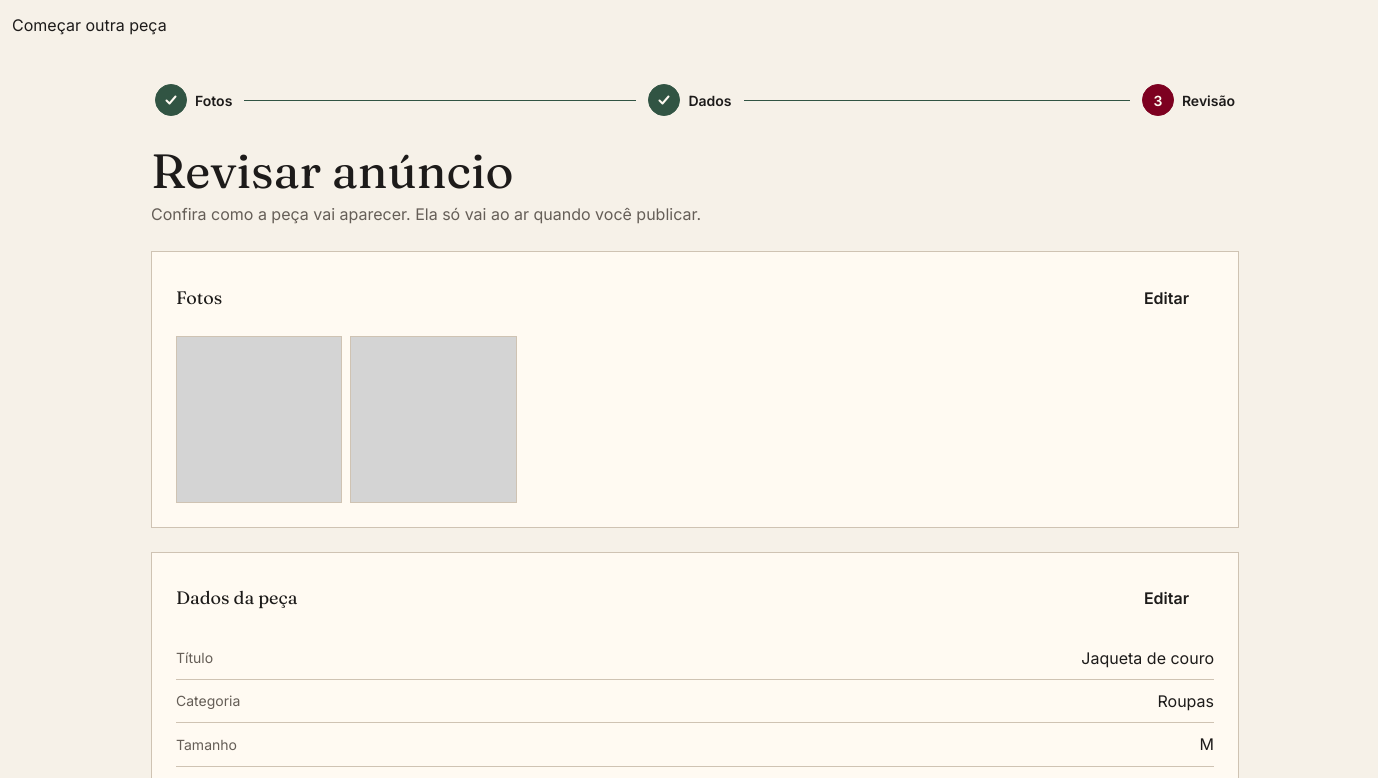
it: Review › "Editar fotos" volta ao formulário na área de fotos
Click the button with aria-label "Editar fotos": (1166, 298) [1119, 276, 1214, 320]
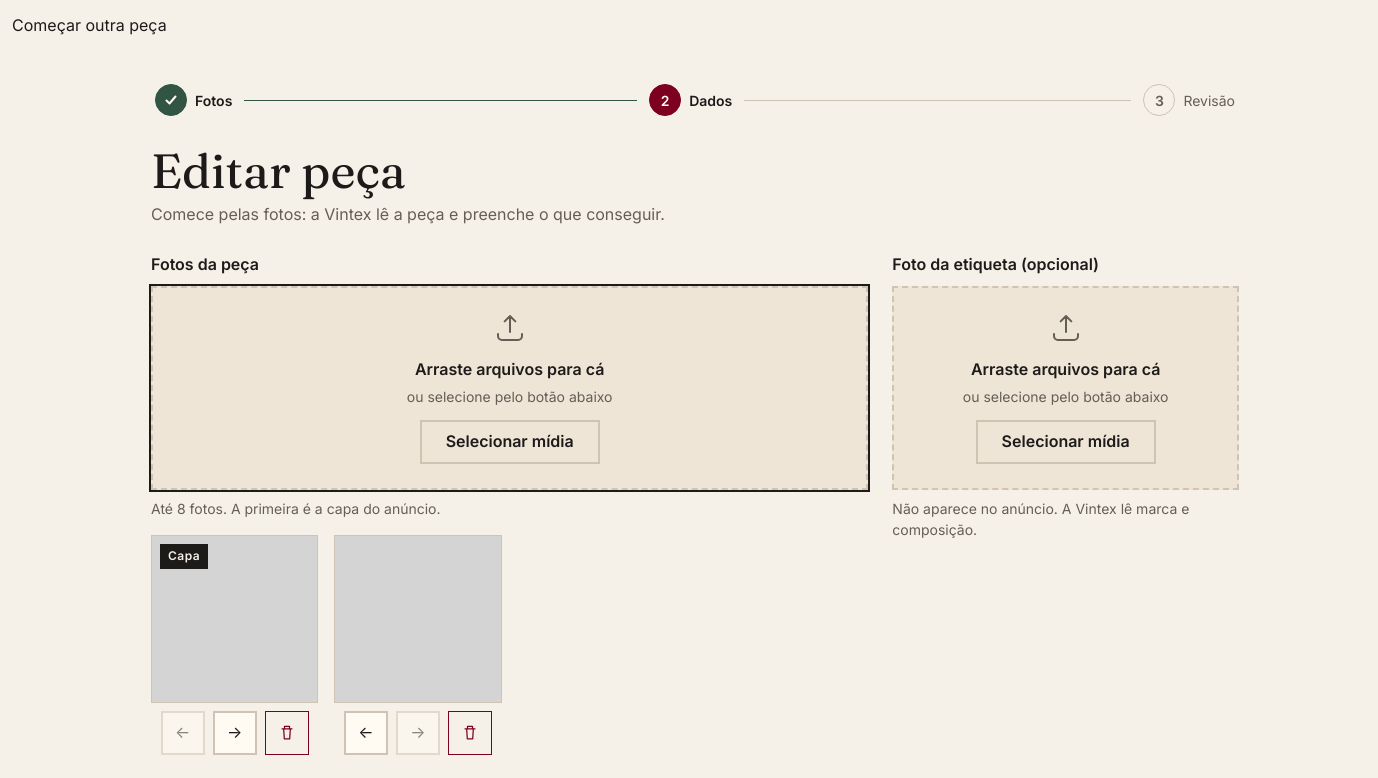
Check: the element with id "secao-fotos" is shown, box [151, 251, 868, 755]
